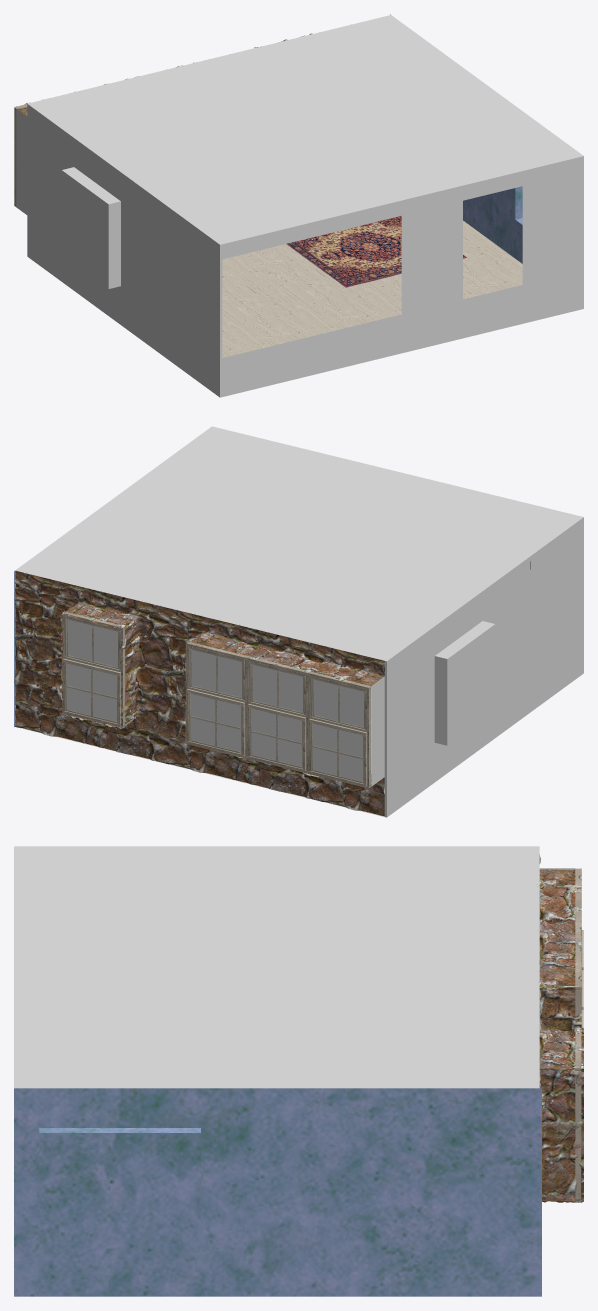
Rendered from walls.glb.
The picture shows the model from 3 angles, top to bottom: view 1: azimuth 30°, elevation 25°; view 2: azimuth 150°, elevation 25°; view 3: azimuth 270°, elevation 25°; orthographic projection. The views are drawn at different scales.
Visible parts, largest first — view 1: Walls, floor, Plane.003, Walls.002; view 2: Walls, Walls.004, Wall window center#2 2x3.005, Wall window center#2 2x3.007, Wall window center#2 2x3.001, Wall window center#2 2x3.003, Wall window center#2 2x3.006, Wall window center#2 2x3, Wall window center#2 2x3.002, Wall window center#2 2x3.004, Walls.002; view 3: Walls, Walls.002, Walls.004, Wall window center#2 2x3.
Part boxes in pixels (<box>): Walls: <box>16,15,583,397</box>; floor: <box>222,220,522,357</box>; Plane.003: <box>286,216,467,287</box>; Walls.002: <box>390,14,522,263</box>; Walls: <box>15,426,583,817</box>; Walls.004: <box>14,571,384,816</box>; Wall window center#2 2x3.005: <box>252,664,302,766</box>; Wall window center#2 2x3.007: <box>313,679,363,781</box>; Wall window center#2 2x3.001: <box>67,619,117,721</box>; Wall window center#2 2x3.003: <box>191,650,241,751</box>; Wall window center#2 2x3.006: <box>308,671,370,788</box>; Wall window center#2 2x3: <box>62,611,125,728</box>; Wall window center#2 2x3.002: <box>185,642,248,758</box>; Wall window center#2 2x3.004: <box>247,656,307,773</box>; Walls.002: <box>14,561,530,727</box>; Walls: <box>14,846,575,1088</box>; Walls.002: <box>14,1088,541,1296</box>; Walls.004: <box>539,854,583,1202</box>; Wall window center#2 2x3: <box>575,1031,581,1202</box>.
Bounding box in the file's own units: 7.88 × 3 × 7.44.
9 materials, 7 textured.
